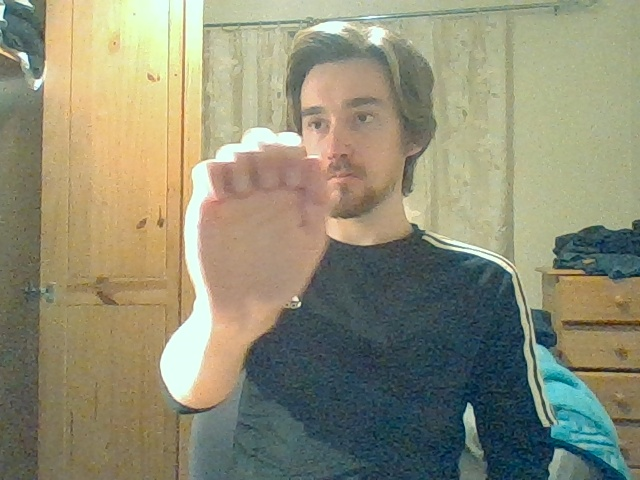your: (184, 125, 326, 307)
